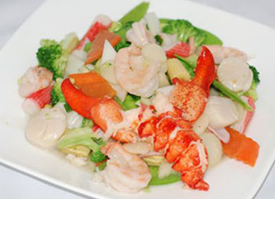curry: (36, 32, 79, 107), (36, 32, 79, 81), (109, 2, 150, 53), (159, 19, 224, 49), (56, 126, 107, 162)
